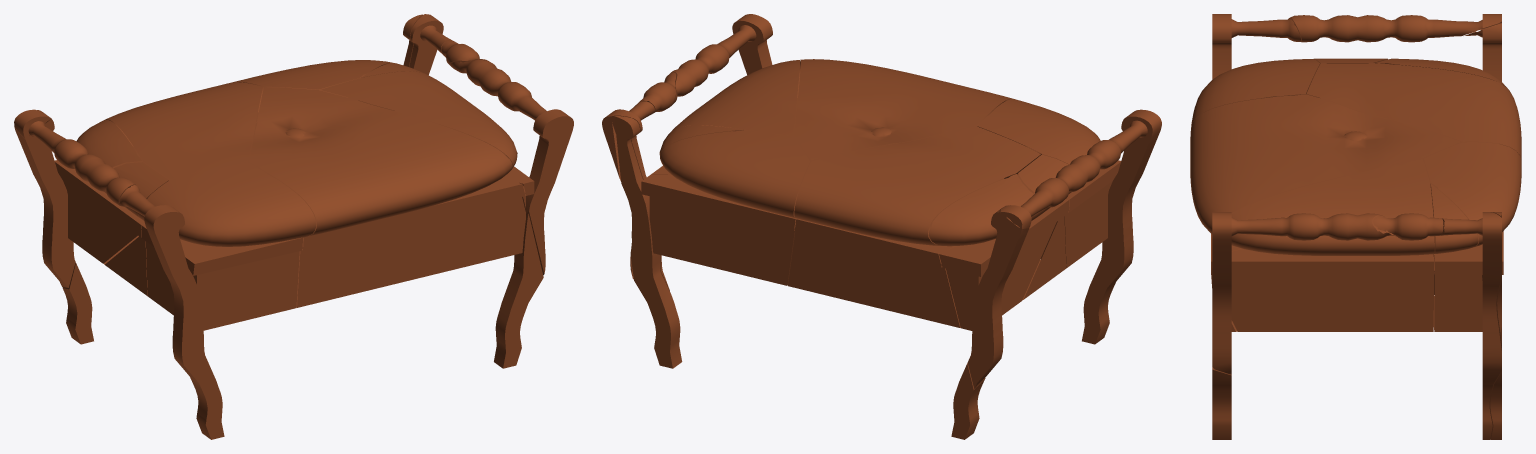
The model's file is bench.fbx.
3 renders of one model, left to right at view 1: azimuth 30°, elevation 25°; view 2: azimuth 150°, elevation 25°; view 3: azimuth 270°, elevation 25°, orthographic. The views are drawn at different scales.
Parts seen in each view (by area): view 1: PianoChair_cell.013, PianoChair_cell.009, PianoChair_cell.003, PianoChair_cell.005, PianoChair_cell, PianoChair_cell.011, PianoChair_cell.004, PianoChair_cell.016, PianoChair_cell.017, PianoChair_cell.002, PianoChair_cell.012, PianoChair_cell.014 (+5 smaller); view 2: PianoChair_cell.003, PianoChair_cell.015, PianoChair_cell.013, PianoChair_cell.009, PianoChair_cell.002, PianoChair_cell, PianoChair_cell.005, PianoChair_cell.016, PianoChair_cell.017, PianoChair_cell.012, PianoChair_cell.018, PianoChair_cell.006 (+5 smaller); view 3: PianoChair_cell.013, PianoChair_cell.011, PianoChair_cell.003, PianoChair_cell.005, PianoChair_cell.006, PianoChair_cell.002, PianoChair_cell.009, PianoChair_cell.016, PianoChair_cell.012, PianoChair_cell, PianoChair_cell.008, PianoChair_cell.004 (+4 smaller).
Part boxes in pixels (left/top/right/bottom): PianoChair_cell.013: left=249, top=87, right=525, bottom=307; PianoChair_cell.009: left=138, top=162, right=316, bottom=439; PianoChair_cell.003: left=104, top=82, right=262, bottom=295; PianoChair_cell.005: left=320, top=71, right=517, bottom=168; PianoChair_cell: left=14, top=110, right=142, bottom=287; PianoChair_cell.011: left=395, top=109, right=573, bottom=274; PianoChair_cell.004: left=494, top=213, right=543, bottom=368; PianoChair_cell.016: left=14, top=109, right=136, bottom=205; PianoChair_cell.017: left=63, top=181, right=137, bottom=263; PianoChair_cell.002: left=232, top=60, right=392, bottom=122; PianoChair_cell.012: left=450, top=59, right=546, bottom=120; PianoChair_cell.014: left=62, top=262, right=93, bottom=344; PianoChair_cell.003: left=788, top=126, right=1066, bottom=327; PianoChair_cell.015: left=614, top=116, right=796, bottom=368; PianoChair_cell.013: left=787, top=59, right=1013, bottom=196; PianoChair_cell.009: left=977, top=99, right=1161, bottom=344; PianoChair_cell.002: left=660, top=130, right=810, bottom=217; PianoChair_cell: left=928, top=174, right=1050, bottom=388; PianoChair_cell.005: left=671, top=60, right=799, bottom=135; PianoChair_cell.016: left=1000, top=140, right=1120, bottom=229; PianoChair_cell.017: left=946, top=222, right=1056, bottom=330; PianoChair_cell.012: left=667, top=25, right=756, bottom=108; PianoChair_cell.018: left=939, top=199, right=1068, bottom=276; PianoChair_cell.006: left=602, top=109, right=743, bottom=290; PianoChair_cell.013: left=1190, top=94, right=1461, bottom=331; PianoChair_cell.011: left=1211, top=212, right=1434, bottom=374; PianoChair_cell.003: left=1306, top=63, right=1521, bottom=175; PianoChair_cell.005: left=1231, top=159, right=1434, bottom=255; PianoChair_cell.006: left=1430, top=184, right=1501, bottom=439; PianoChair_cell.002: left=1424, top=142, right=1521, bottom=246; PianoChair_cell.009: left=1191, top=14, right=1320, bottom=127; PianoChair_cell.016: left=1290, top=14, right=1501, bottom=42; PianoChair_cell.012: left=1231, top=213, right=1401, bottom=240; PianoChair_cell: left=1375, top=23, right=1509, bottom=90; PianoChair_cell.008: left=1373, top=213, right=1443, bottom=240; PianoChair_cell.004: left=1212, top=367, right=1231, bottom=439.
Bounding box in the file's own units: 138 × 74.65 × 90.76.
